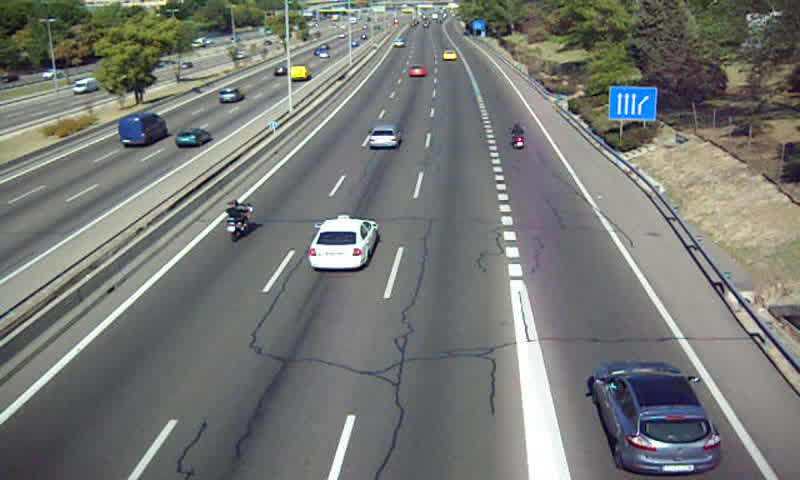car: (592, 363, 721, 474), (310, 219, 377, 269), (367, 125, 402, 150), (409, 64, 427, 79), (442, 50, 459, 60)
motorcycle: (224, 199, 254, 240), (510, 122, 526, 150)
